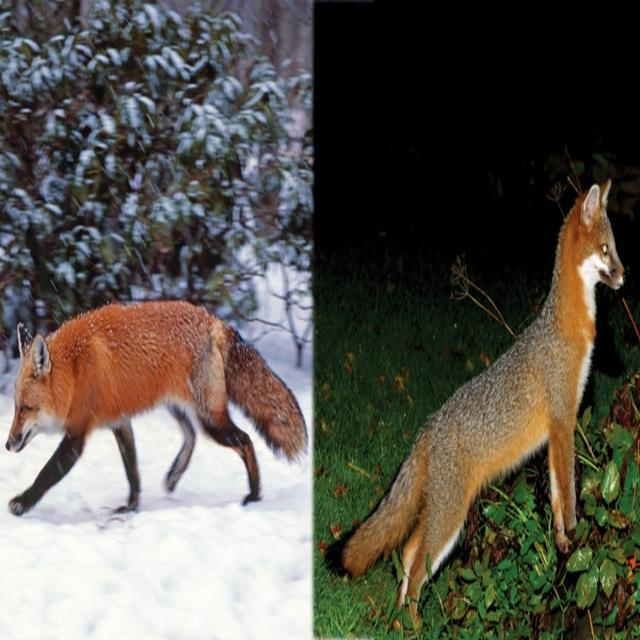fox: (323, 179, 625, 617), (6, 301, 308, 516)
